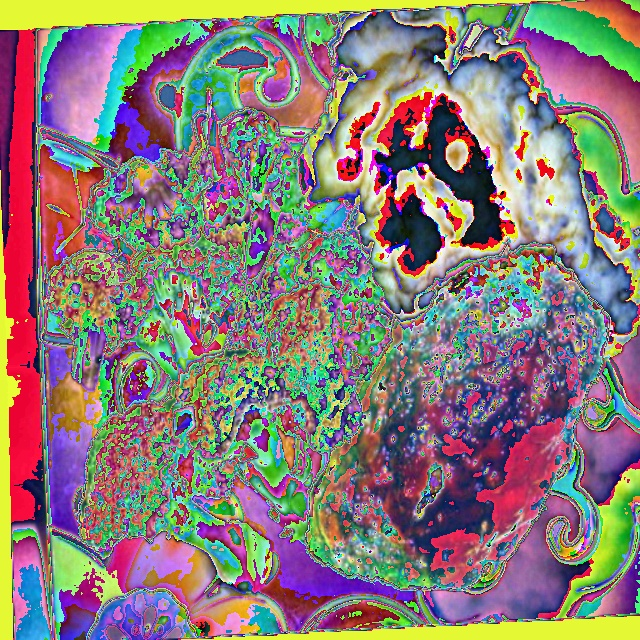background: (47, 7, 639, 594)
